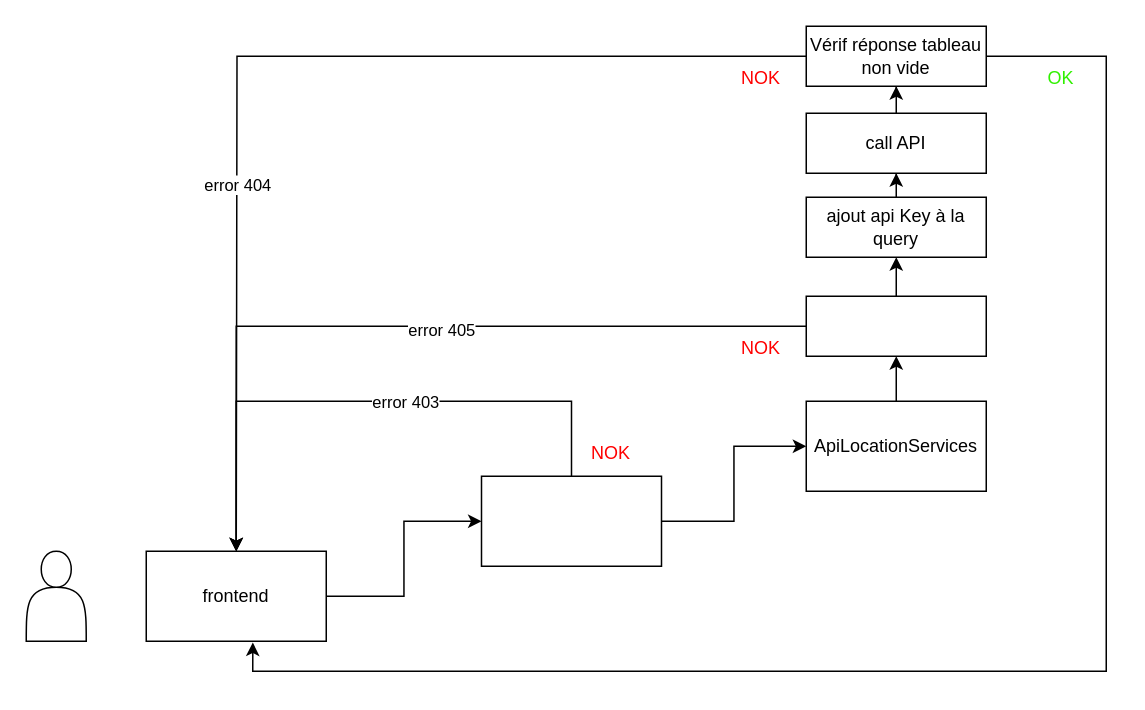
Some shapes in this 1145 by 710 pixel diagram are drawn without their labels. Each missing label, with the box of its shape:
Vérif query existante: (805, 295, 986, 356)
vérif rôle utilisateur (pro): (480, 475, 662, 566)
